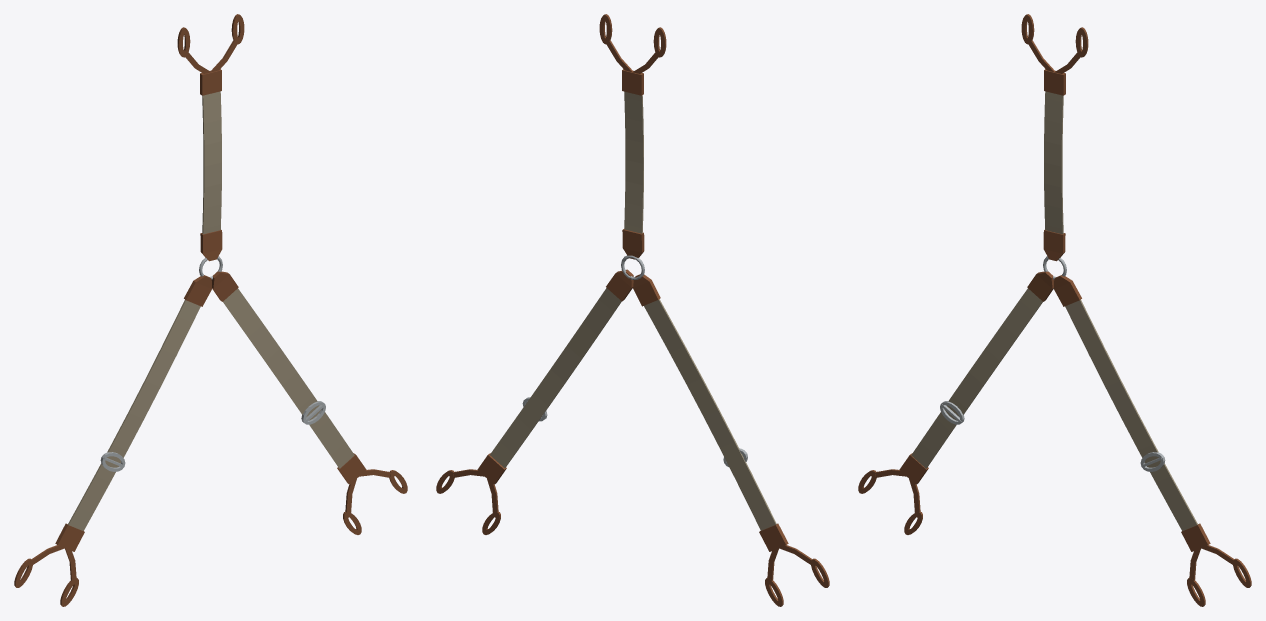
The picture shows the model from 3 angles, left to right: view 1: azimuth 30°, elevation 25°; view 2: azimuth 150°, elevation 25°; view 3: azimuth 330°, elevation 25°; orthographic projection.
Parts seen in each view (by area): view 1: Left_Shoulder_Webbing, Right_Shoulder_Webbing, Rear_Webbing, Left_Junction_Leather_Seat, Rear_Junction_Leather_Seat, Right_Junction_Leather_Seat; view 2: Left_Shoulder_Webbing, Right_Shoulder_Webbing, Rear_Webbing, Left_Junction_Leather_Seat, Right_Junction_Leather_Seat, Rear_Junction_Leather_Seat; view 3: Right_Shoulder_Webbing, Left_Shoulder_Webbing, Rear_Webbing, Right_Junction_Leather_Seat, Rear_Junction_Leather_Seat, Left_Junction_Leather_Seat.
Boxes of the visible parts, x1,y1,x2,y2 form: Left_Shoulder_Webbing: [68, 300, 200, 530]; Right_Shoulder_Webbing: [223, 288, 354, 468]; Rear_Webbing: [202, 91, 221, 234]; Left_Junction_Leather_Seat: [184, 275, 211, 306]; Rear_Junction_Leather_Seat: [200, 229, 222, 261]; Right_Junction_Leather_Seat: [211, 271, 238, 301]; Left_Shoulder_Webbing: [644, 299, 776, 530]; Right_Shoulder_Webbing: [490, 288, 621, 467]; Rear_Webbing: [624, 91, 643, 233]; Left_Junction_Leather_Seat: [633, 274, 660, 306]; Right_Junction_Leather_Seat: [606, 269, 633, 301]; Rear_Junction_Leather_Seat: [622, 229, 644, 259]; Right_Shoulder_Webbing: [1065, 300, 1197, 530]; Left_Shoulder_Webbing: [911, 288, 1042, 468]; Rear_Webbing: [1044, 91, 1063, 234]; Right_Junction_Leather_Seat: [1054, 275, 1081, 306]; Rear_Junction_Leather_Seat: [1043, 229, 1065, 261]; Left_Junction_Leather_Seat: [1027, 271, 1054, 301].
Bounding box in the file's own units: 0.7525 × 1.01 × 0.016.
